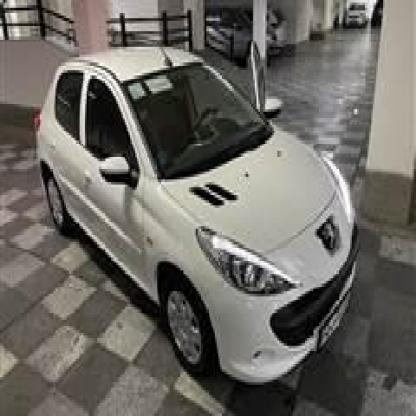Car: (33, 18, 354, 398), (338, 5, 371, 34)
